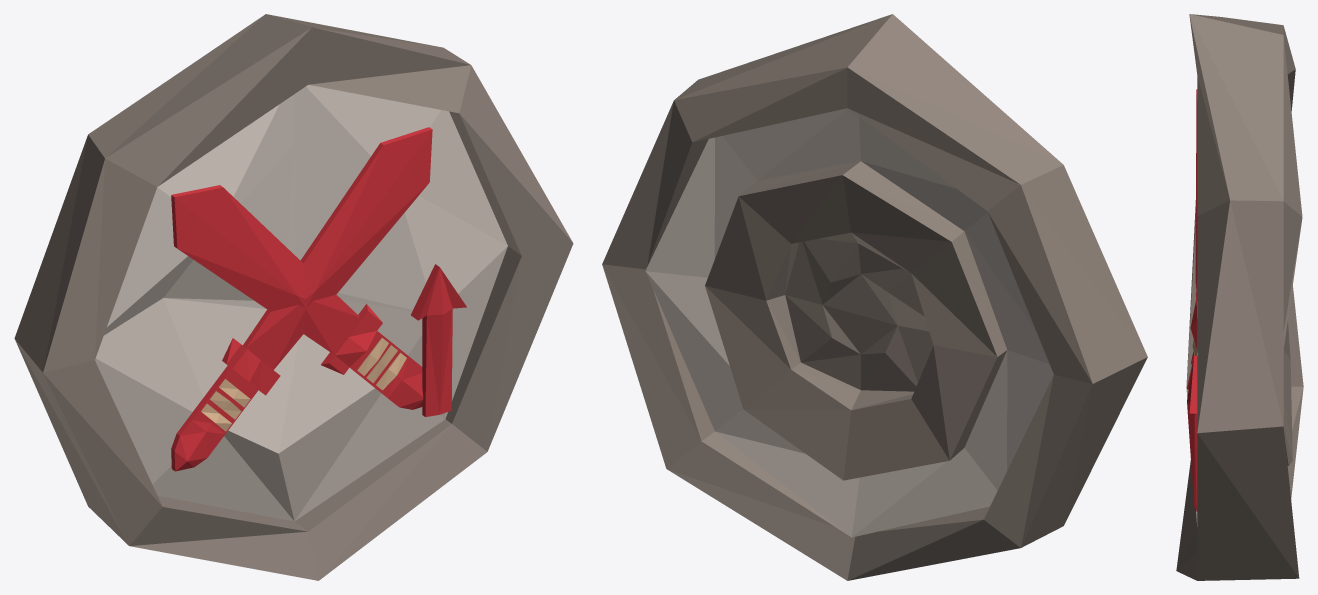
Rendered from item_fly_attack.FBX.
3 renders of one model, left to right at view 1: azimuth 30°, elevation 25°; view 2: azimuth 150°, elevation 25°; view 3: azimuth 270°, elevation 25°, orthographic. The views are drawn at different scales.
Parts seen in each view (by area): view 1: coin, attack; view 2: coin; view 3: coin, attack.
Part boxes in pixels (x1,y1,x2,y2): coin: [14, 14, 573, 580]; attack: [171, 127, 466, 471]; coin: [602, 14, 1147, 580]; coin: [1176, 14, 1303, 580]; attack: [1187, 89, 1197, 511].
Size of the model in its own units: 31.09 by 30.75 by 6.37.
1 material, 1 textured.
